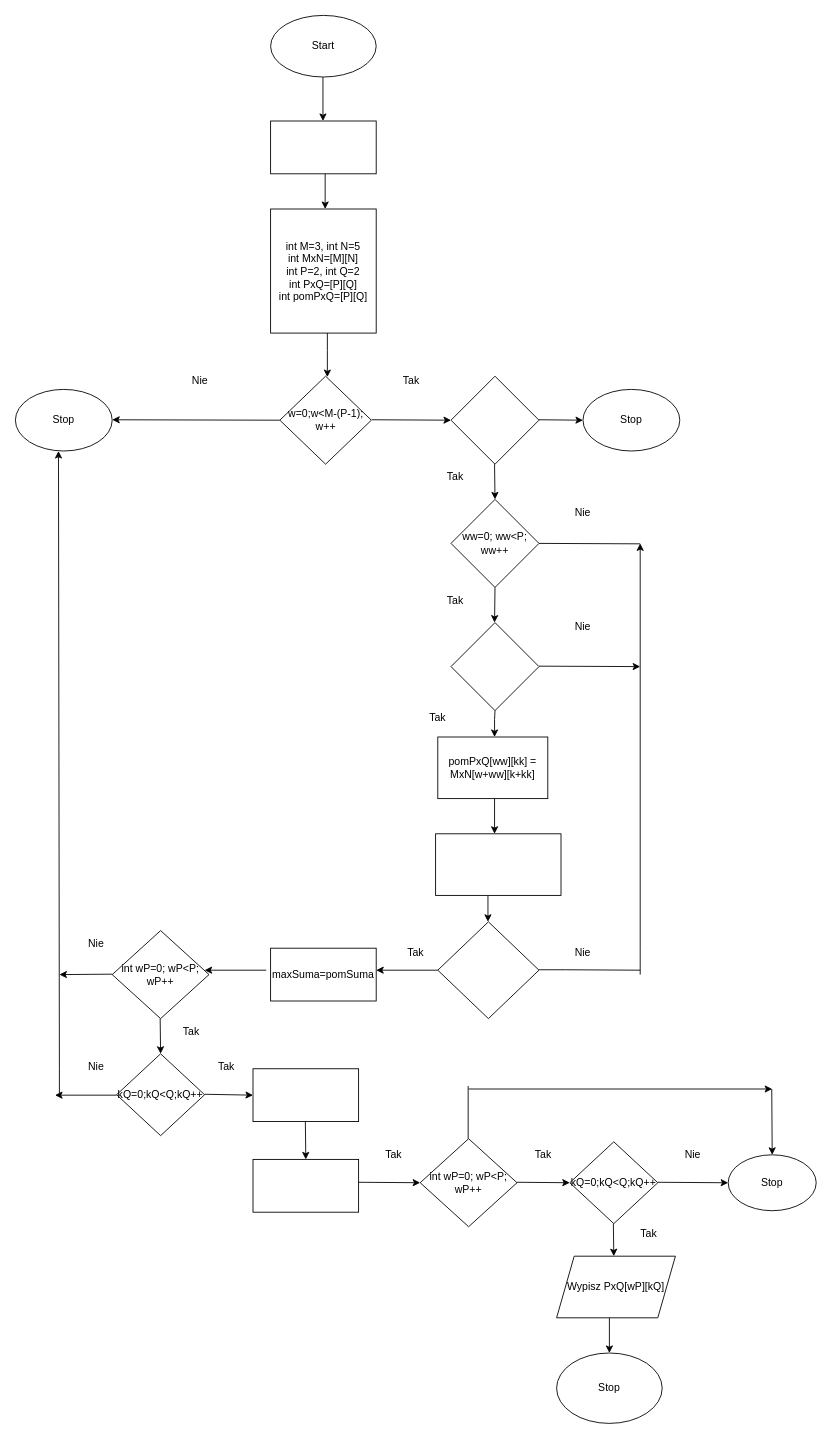
Some shapes in this 832 by 1439 pixel diagram are drawn without their labels. The shapes that lost their labels are listed below. From the top down, each one's centre as x and y in pixels, then its label:
[323,147]: int maxSuma=0 int pomSuma=0
[494,419]: k=0;k<N-(Q-1); k++
[494,666]: kk=0; kk<Q; kk++
[498,864]: pomSuma+=pomPxQ[ww][kk]
[488,970]: maxSuma>pomSuma
[305,1095]: PxQ[wP][kQ] = pomPxQ[wP][kQ]
[305,1185]: pomSuma=0
